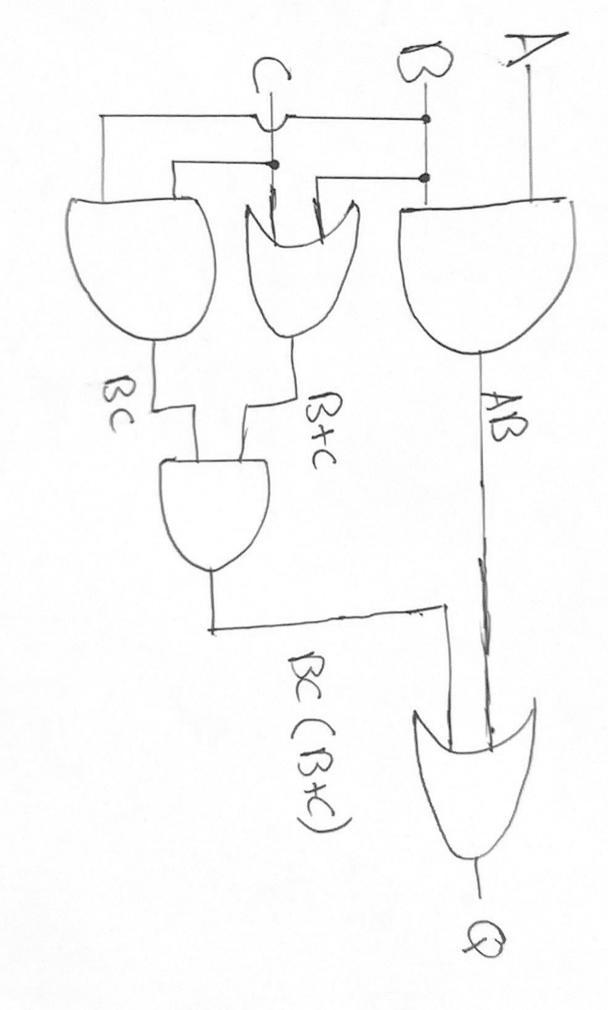AND: (390, 192, 582, 362), (54, 180, 226, 348), (148, 444, 282, 584)
OR: (394, 694, 553, 882), (240, 194, 371, 353)
